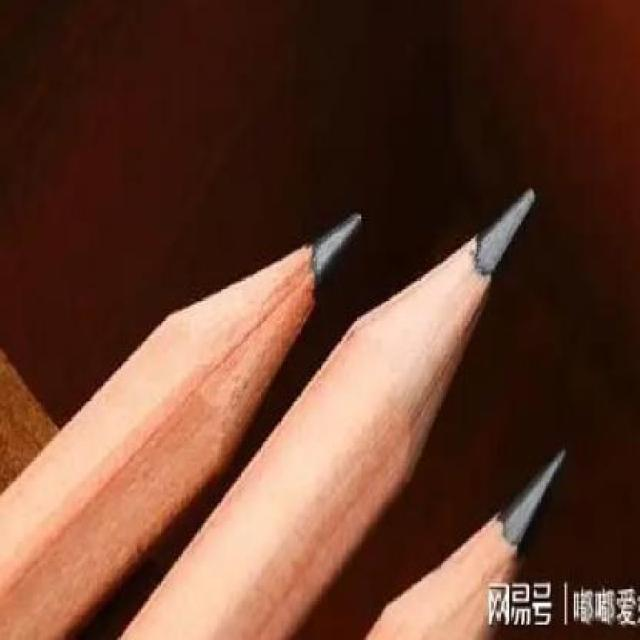pencil: (117, 182, 542, 640), (0, 205, 367, 640), (362, 437, 571, 640)
